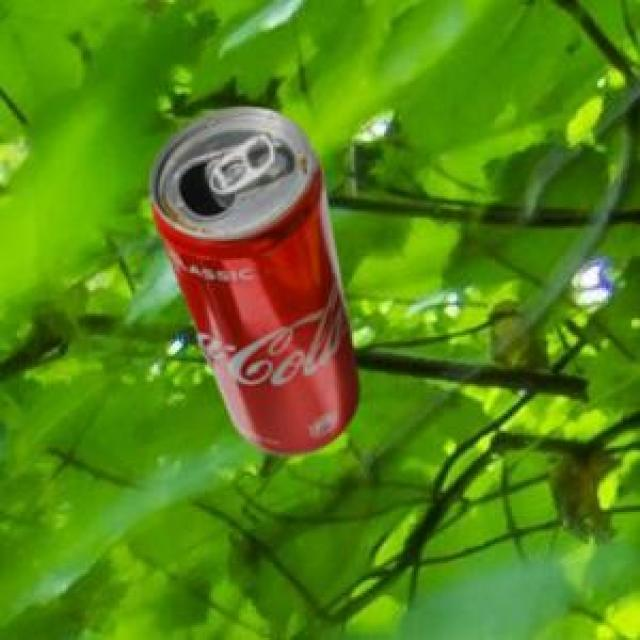Can: (146, 106, 355, 451)
